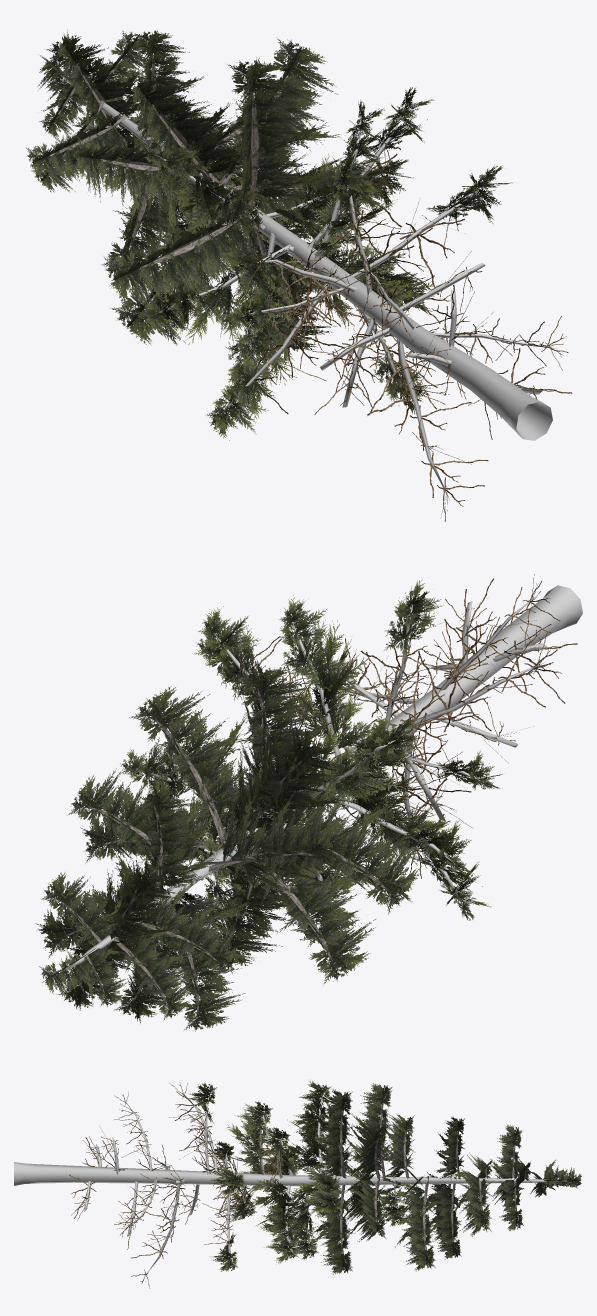
Rendered from tanne_src.fbx.
The picture shows the model from 3 angles, top to bottom: view 1: azimuth 30°, elevation 25°; view 2: azimuth 150°, elevation 25°; view 3: azimuth 270°, elevation 25°; orthographic projection. The views are drawn at different scales.
Parts seen in each view (by area): view 1: Circle_002; view 2: Circle_002; view 3: Circle_002.
Boxes of the visible parts, x1,y1,x2,y2 form: Circle_002: (26, 29, 572, 521); Circle_002: (35, 574, 582, 1031); Circle_002: (14, 1081, 581, 1288).
Size of the model in its own units: 9.94 by 10.14 by 25.28.
